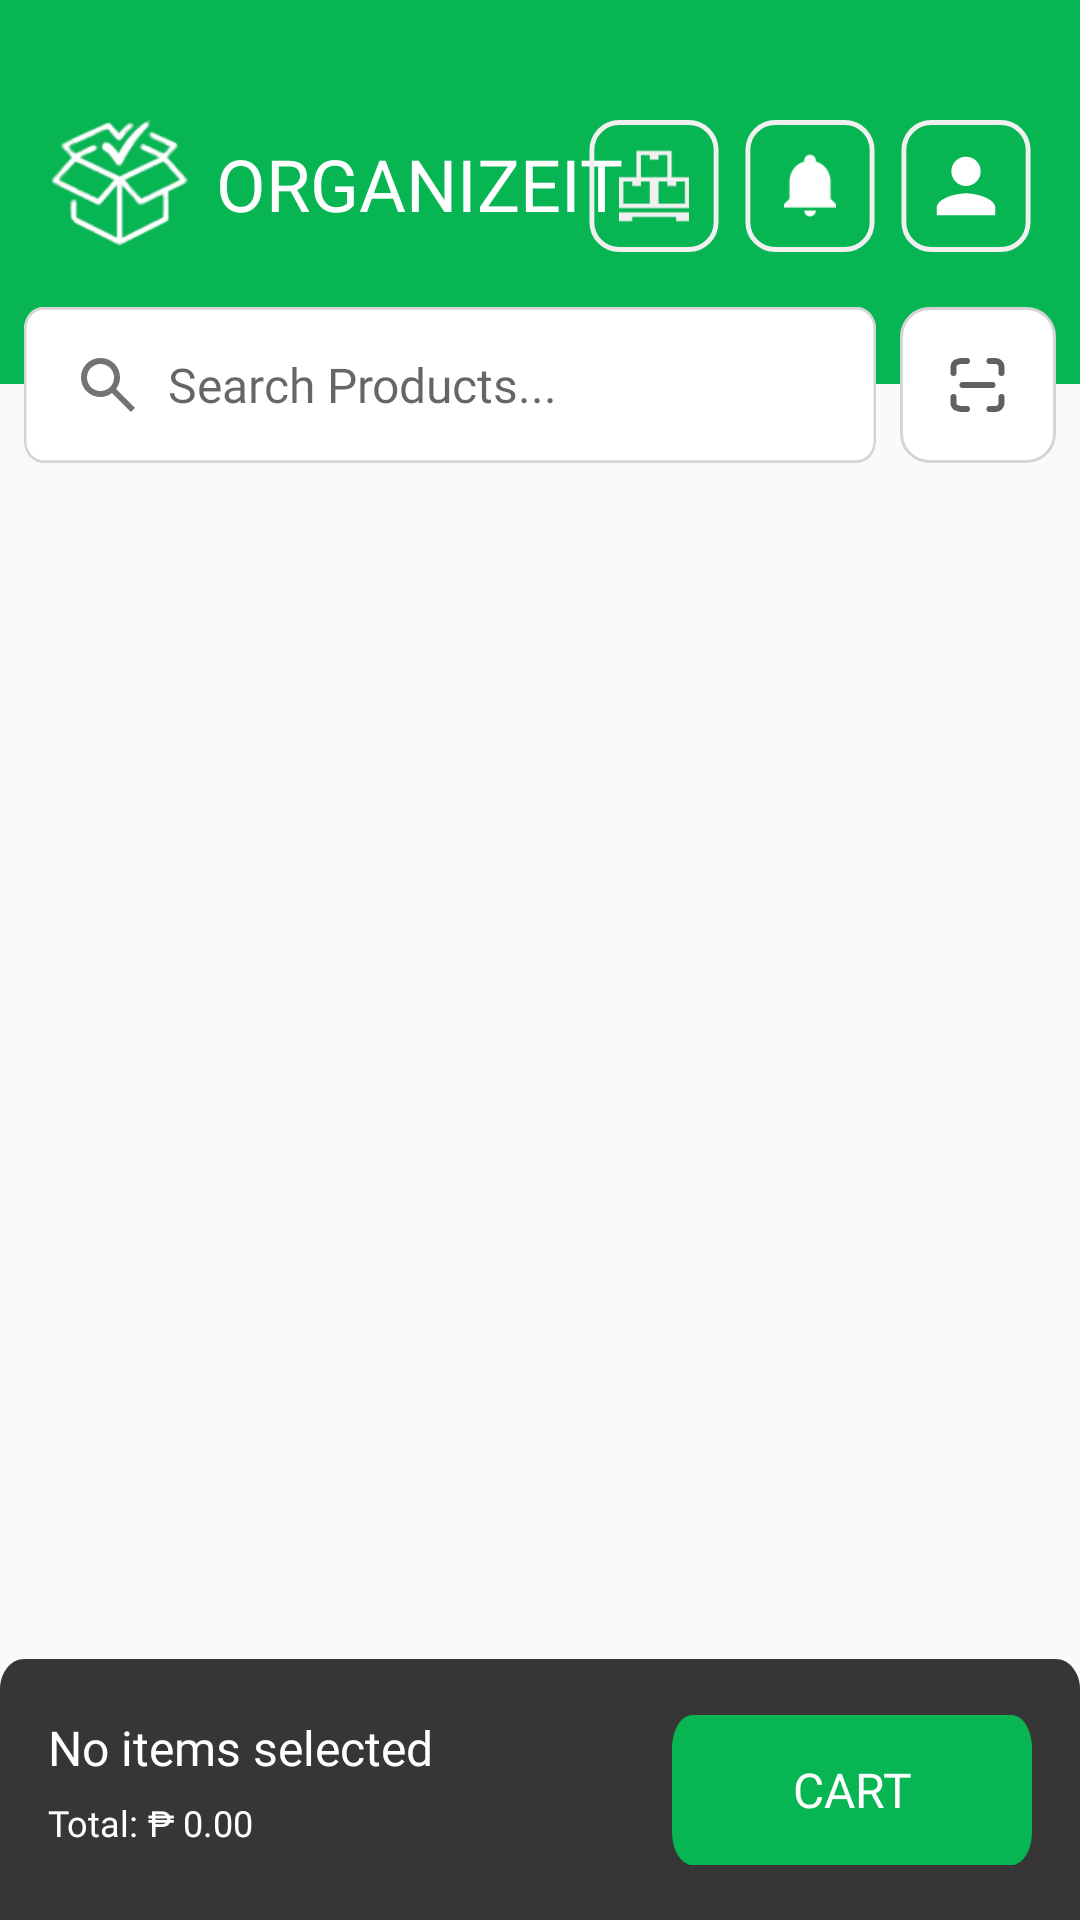

Where to tap for icons on this 1080*1920 app screen, as [x,y]:
acc: [966,186]
scan: [978,385]
